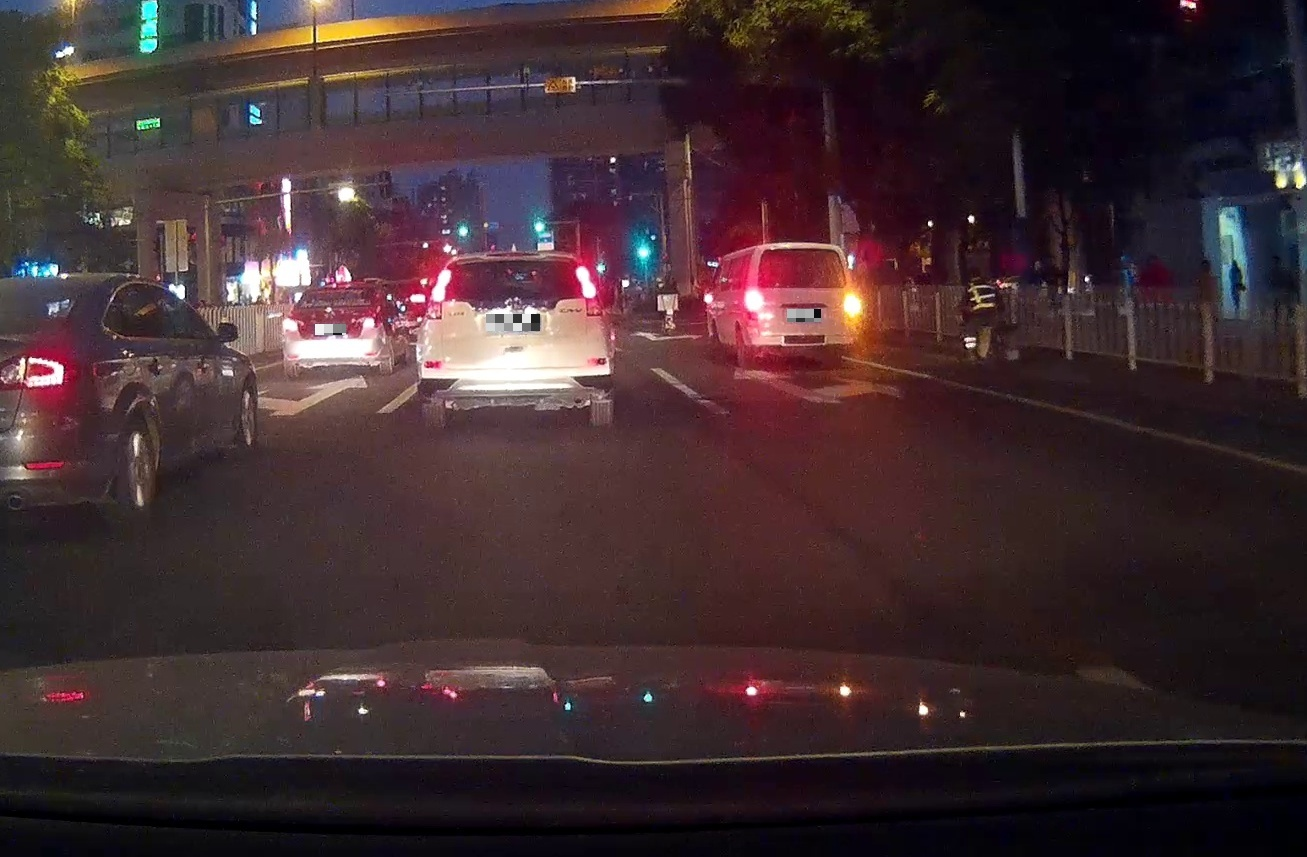L_light: (425, 269, 451, 320), (744, 288, 764, 312), (282, 318, 298, 332)
R_light: (575, 265, 603, 316), (843, 293, 861, 317), (361, 316, 377, 328)
T_light: (487, 252, 541, 256), (788, 247, 812, 251), (333, 285, 349, 289)
night-no: (415, 251, 612, 426), (743, 242, 862, 368), (280, 281, 390, 376)
plate_1: (315, 324, 346, 335)
plate_2: (486, 314, 540, 331)
plate_3: (787, 309, 821, 322)
